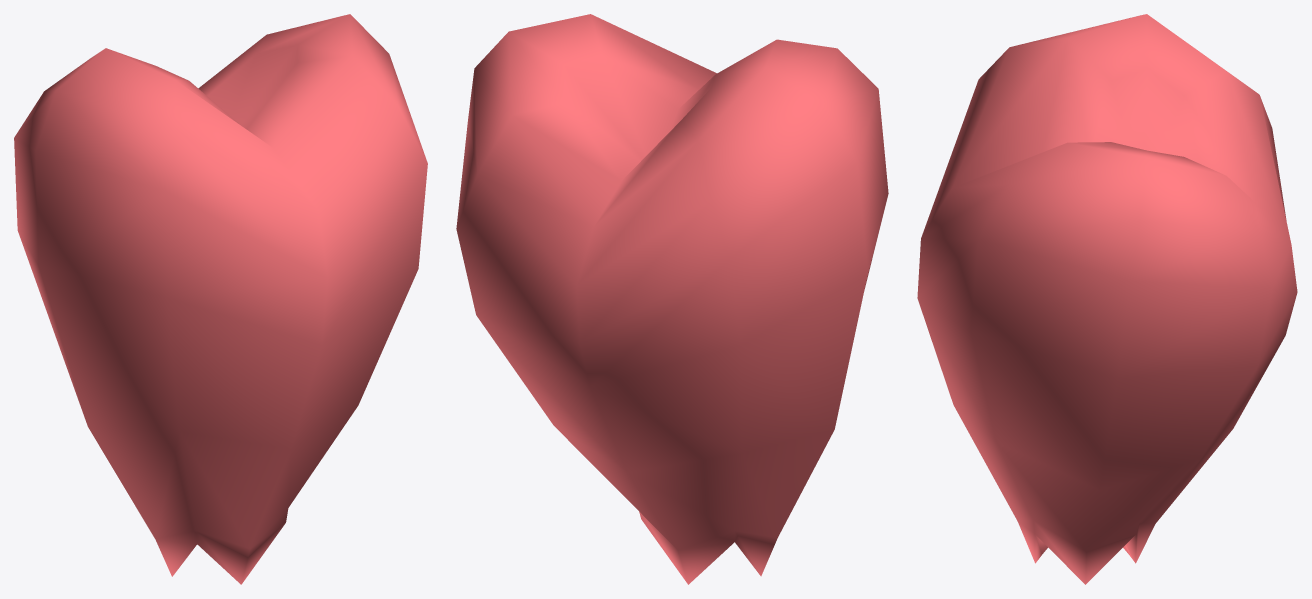
File: StalkFruit.fbx
The picture shows the model from 3 angles, left to right: view 1: azimuth 30°, elevation 25°; view 2: azimuth 150°, elevation 25°; view 3: azimuth 270°, elevation 25°; orthographic projection. The views are drawn at different scales.
Parts seen in each view (by area): view 1: StalkFruit_LOD0; view 2: StalkFruit_LOD0; view 3: StalkFruit_LOD0.
Boxes of the visible parts, x1,y1,x2,y2 form: StalkFruit_LOD0: (14, 14, 427, 584); StalkFruit_LOD0: (456, 14, 888, 584); StalkFruit_LOD0: (917, 14, 1297, 584).
Size of what is drawn, in the model's own units: 0.1879 by 0.2476 by 0.1668.
